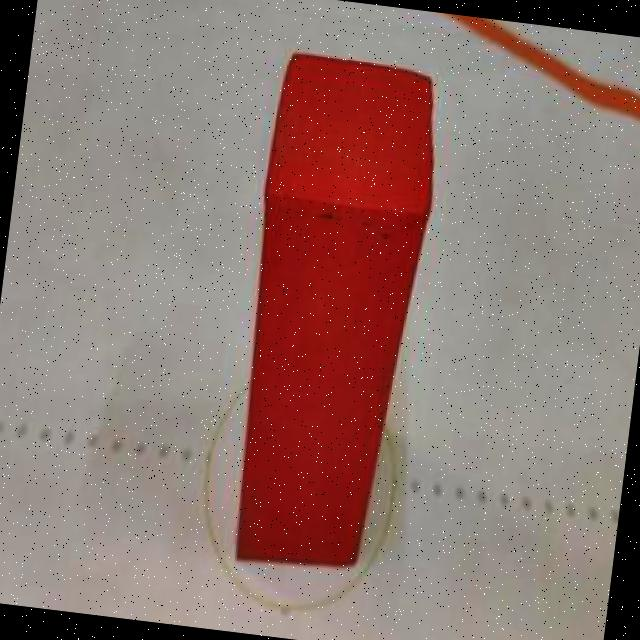redbox: (220, 45, 450, 582)
